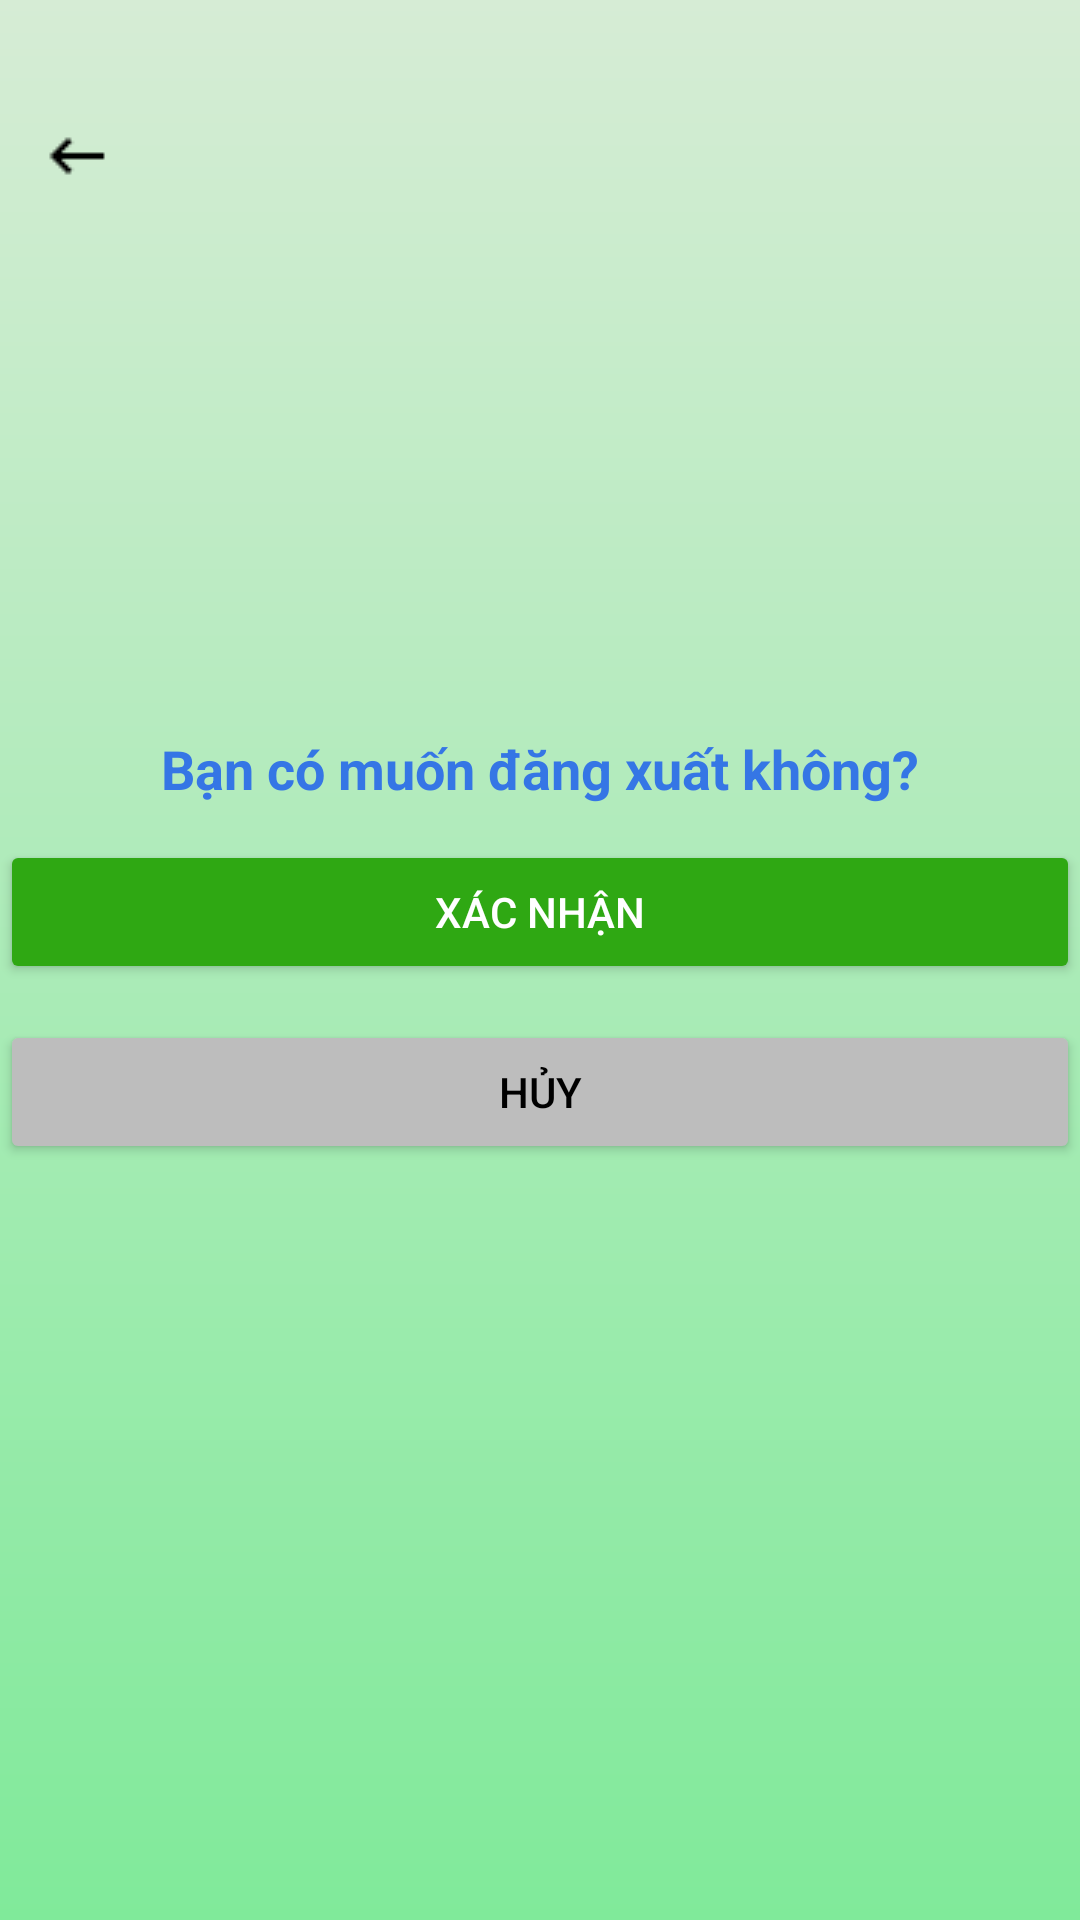

Screen size 1080x1920. Icon name, then its box in pixels as (x1, y1, x2, y2):
back: (49, 137, 105, 175)
